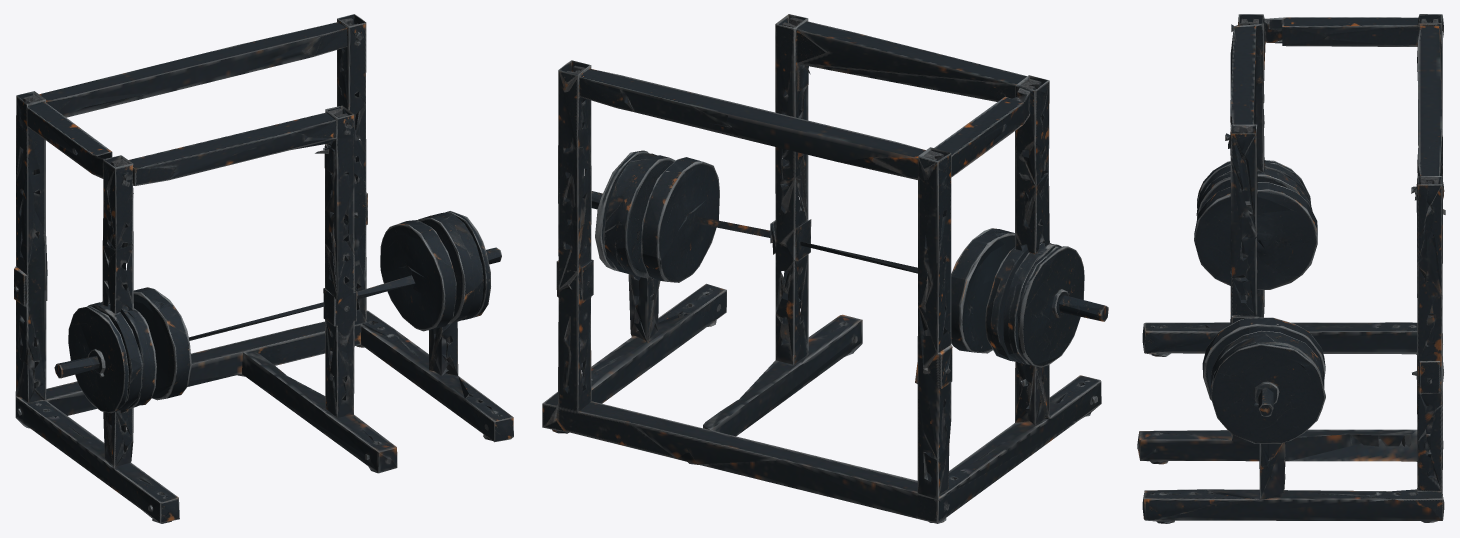
3 renders of one model, left to right at view 1: azimuth 30°, elevation 25°; view 2: azimuth 150°, elevation 25°; view 3: azimuth 270°, elevation 25°, orthographic. The views are drawn at different scales.
Size of the model in its own units: 1.9 by 1.32 by 1.1.
1 material, 1 textured.
